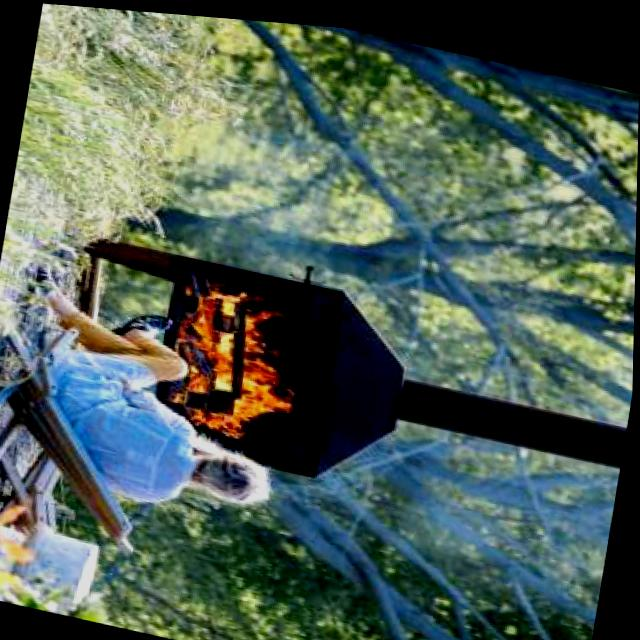Fire: (150, 268, 319, 453)
